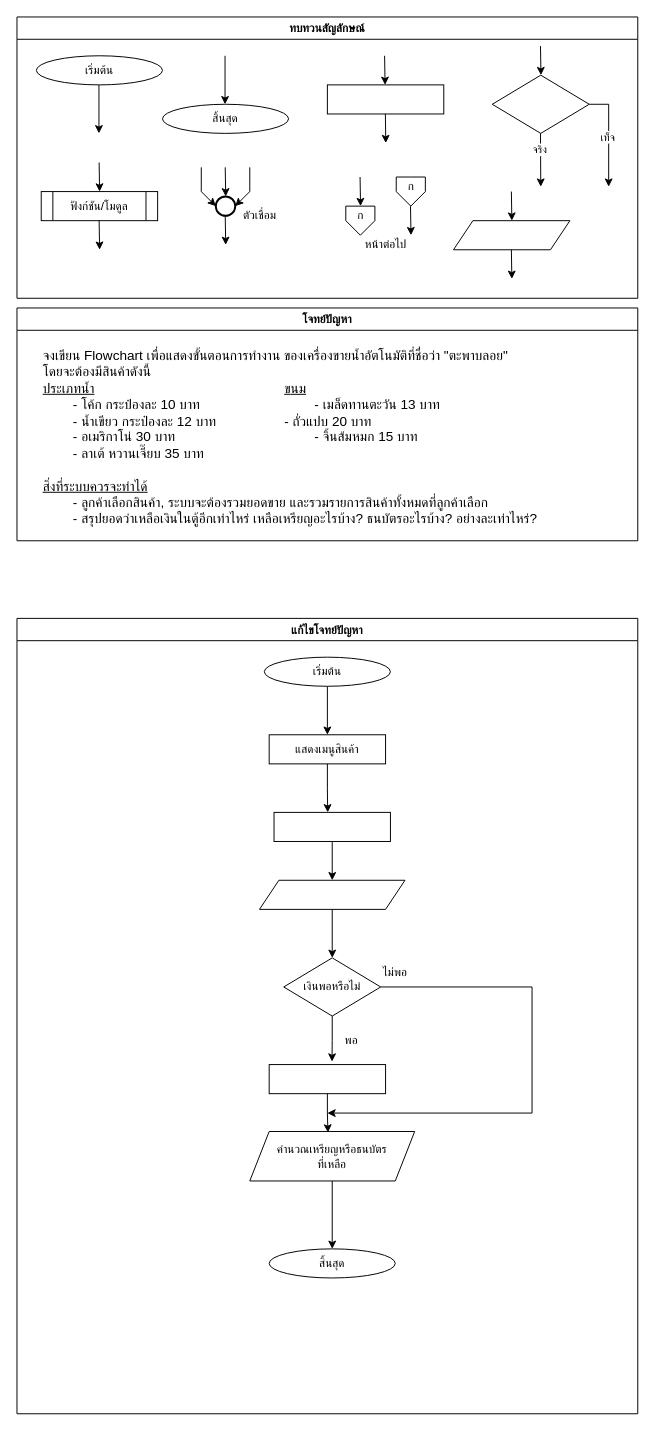
The diagram is 655 pixels wide and 1431 high, and some of its shapes have lost their labels. The centre of each missing label's shape, as x and y in pixels:
"กระบวนการ" goes at (385,99).
"คำนวณราคารวมทั้งหมด" goes at (332,894).
"ประโยคเงื่อนไข" goes at (540,103).
"แสดงผล/รับค่า" goes at (511,235).
"แสดงรายการถอนเงิน" goes at (327,1079).
"ให้ลูกค้าเลือกสินค้า" goes at (331,826).
